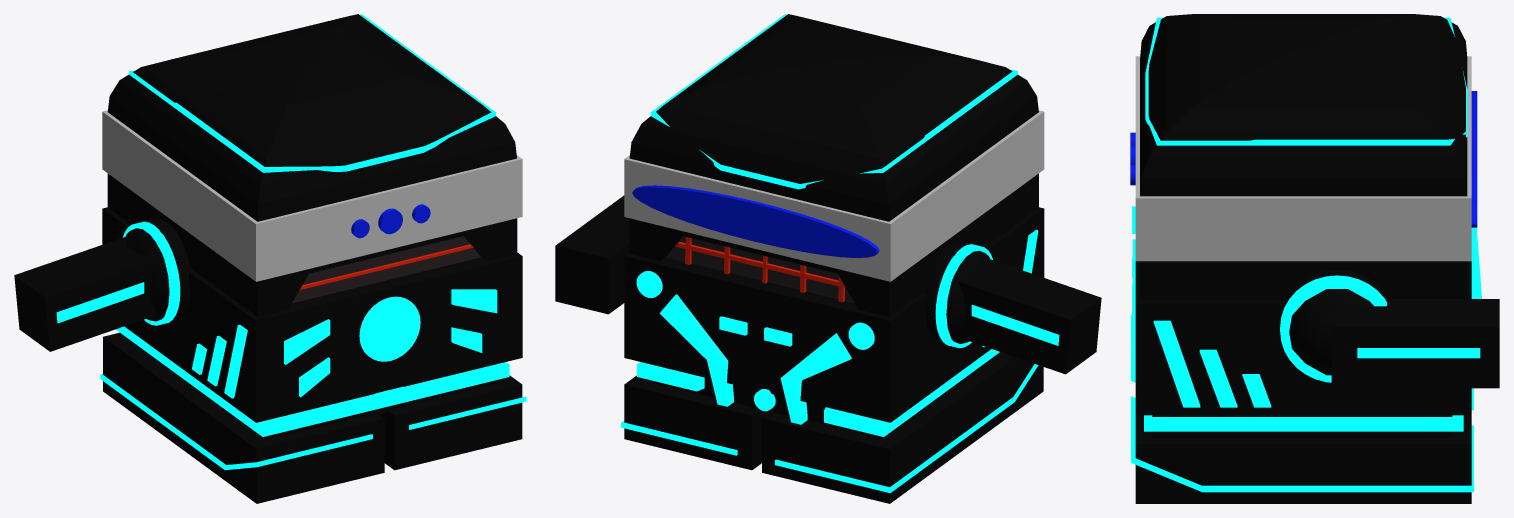
File: Cyb3r model.fbx
The picture shows the model from 3 angles, left to right: view 1: azimuth 30°, elevation 25°; view 2: azimuth 150°, elevation 25°; view 3: azimuth 270°, elevation 25°; orthographic projection. The views are drawn at different scales.
Visible parts, largest first — view 1: Head, Body, Body.001; view 2: Head, Body, Body.001; view 3: Head, Body, Body.001.
Part boxes in pixels (x1,y1,x2,y2): Head: [102, 14, 522, 316]; Body: [14, 207, 522, 503]; Body.001: [56, 14, 526, 470]; Head: [624, 14, 1044, 316]; Body: [555, 195, 1101, 503]; Body.001: [621, 14, 1059, 493]; Head: [1130, 14, 1477, 300]; Body: [1135, 261, 1499, 503]; Body.001: [1131, 17, 1481, 492].
Bounding box in the file's own units: 343 × 254 × 220.
